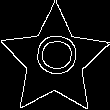O_W: (30, 38, 80, 83)
